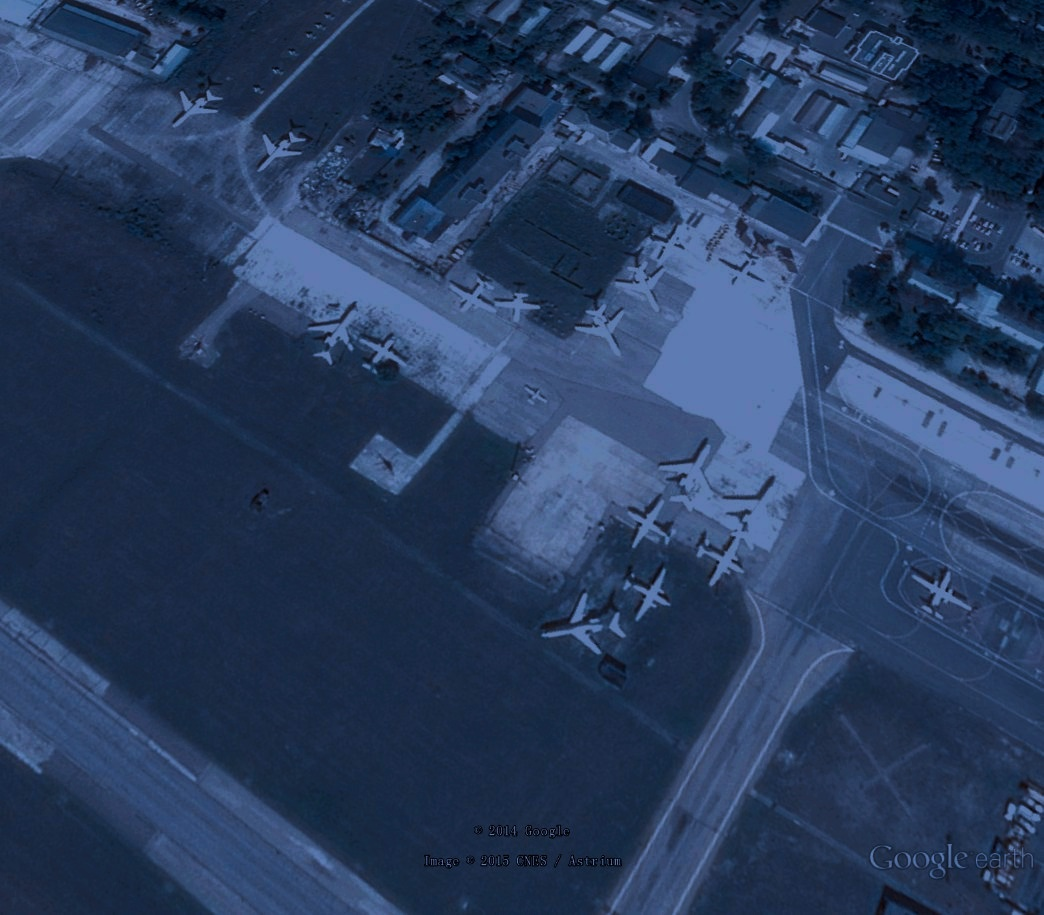aircraft: (532, 586, 630, 664), (717, 472, 798, 556), (654, 433, 723, 514), (904, 562, 976, 625), (304, 300, 364, 372), (571, 298, 633, 364), (618, 562, 678, 628), (610, 256, 672, 319), (694, 528, 753, 592), (624, 495, 684, 555), (252, 123, 310, 178), (442, 271, 502, 321), (357, 331, 414, 381), (171, 85, 231, 132), (714, 249, 772, 294), (640, 219, 694, 267), (492, 286, 547, 328), (523, 381, 552, 409)
